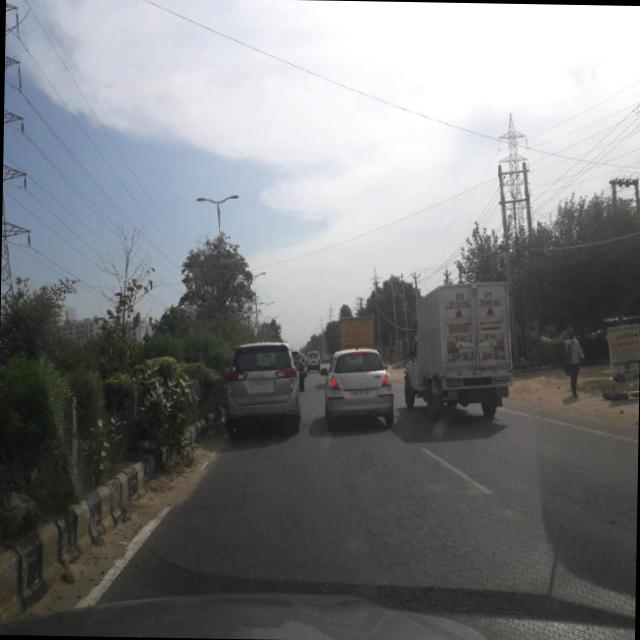crack: (177, 438, 607, 625)
